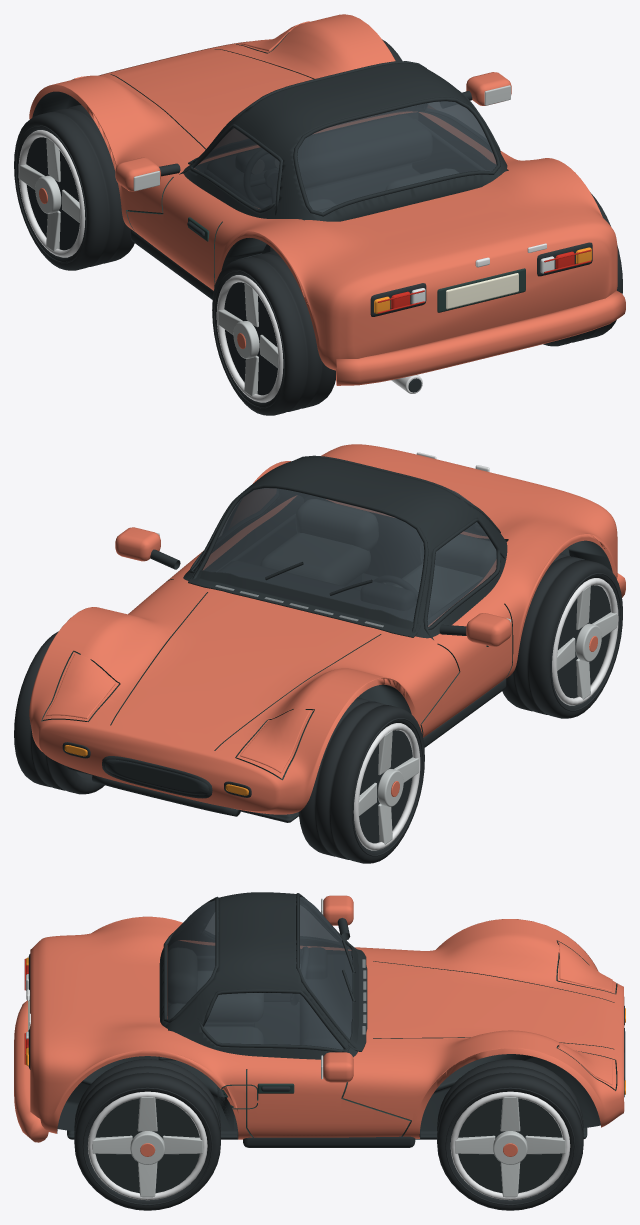
Rendered from kogarashi.fbx.
3 renders of one model, top to bottom at view 1: azimuth 30°, elevation 25°; view 2: azimuth 150°, elevation 25°; view 3: azimuth 270°, elevation 25°, orthographic. The views are drawn at different scales.
Visible parts, largest first — view 1: Body, Wheel_FL_Mesh, Wheel_RL_Mesh, Wheel_RR_Mesh; view 2: Body, Wheel_FL_Mesh, Wheel_RL_Mesh, Wheel_FR_Mesh; view 3: Body, Wheel_FR_Mesh, Wheel_RR_Mesh.
Part boxes in pixels (box(x1,y1,x2,y2)): Body: box(29, 14, 625, 393); Wheel_FL_Mesh: box(14, 105, 134, 270); Wheel_RL_Mesh: box(212, 250, 335, 415); Wheel_RR_Mesh: box(543, 192, 622, 346); Body: box(29, 444, 625, 822); Wheel_FL_Mesh: box(298, 698, 424, 863); Wheel_RL_Mesh: box(502, 553, 622, 718); Wheel_FR_Mesh: box(14, 631, 104, 794); Body: box(14, 892, 625, 1147); Wheel_FR_Mesh: box(437, 1059, 583, 1210); Wheel_RR_Mesh: box(74, 1059, 220, 1210).
Bounding box in the file's own units: 222 × 131 × 334.
